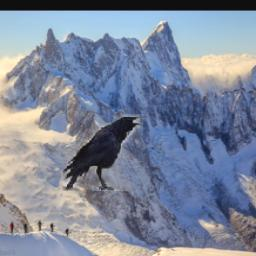Crow: (61, 114, 142, 191)
